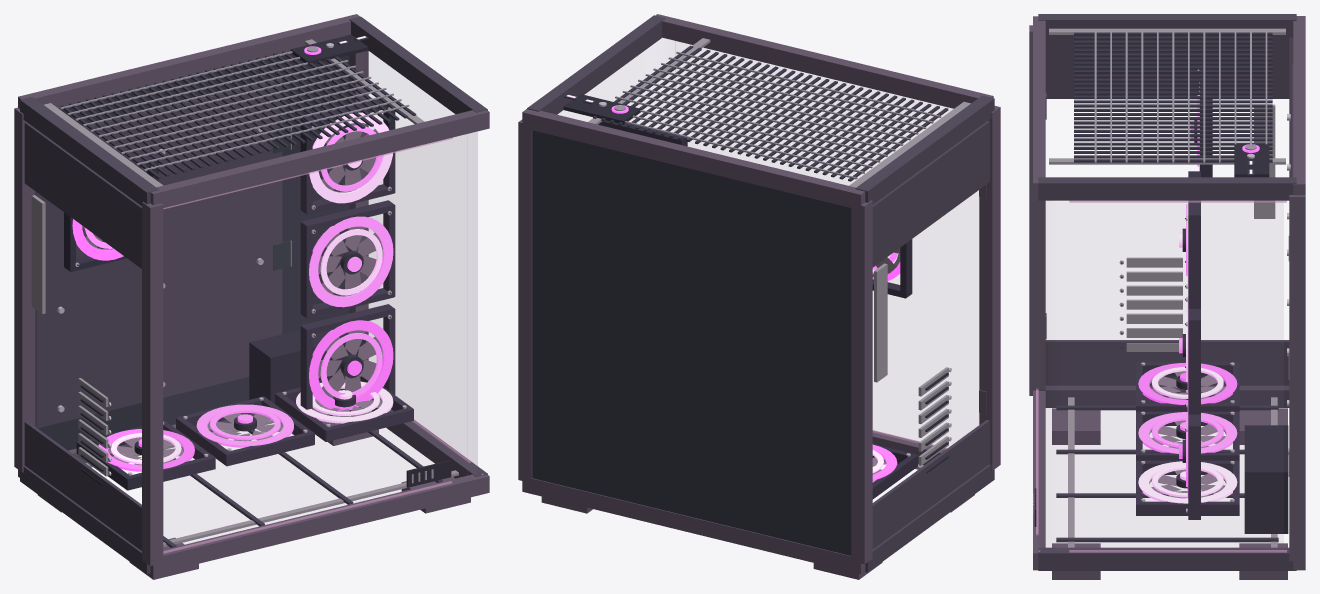
File: FOIFKIN_F600.glb
3 views of the same model, side by side, from view 1: azimuth 30°, elevation 25°; view 2: azimuth 150°, elevation 25°; view 3: azimuth 270°, elevation 25° (orthographic).
Parts seen in each view (by area): view 1: F600_MATERIAL_CHASSIS, F600_MATERIAL_FRAME, F600_MATERIAL_GLASS, F600_MATERIAL_FANBLACK, F600_MATERIAL_METAL, F600_MATERIAL_GRILLE, F600_MATERIAL_CARBON, F600_MATERIAL_PURPLE, F600_MATERIAL_BEZEL, F600_MATERIAL_BLADE, F600_MATERIAL_AZURE, F600_MATERIAL_CYAN (+3 smaller); view 2: F600_MATERIAL_CARBON, F600_MATERIAL_FRAME, F600_MATERIAL_CHASSIS, F600_MATERIAL_GRILLE, F600_MATERIAL_METAL, F600_MATERIAL_FANBLACK, F600_MATERIAL_BEZEL, F600_MATERIAL_CYAN; view 3: F600_MATERIAL_CHASSIS, F600_MATERIAL_GRILLE, F600_MATERIAL_FRAME, F600_MATERIAL_METAL, F600_MATERIAL_FANBLACK, F600_MATERIAL_BEZEL, F600_MATERIAL_AZURE, F600_MATERIAL_PURPLE, F600_MATERIAL_BLADE, F600_MATERIAL_CYAN, F600_MATERIAL_GLASSEDGE, F600_MATERIAL_BOLTS.
Boxes of the visible parts, bbox=[...] form: F600_MATERIAL_CHASSIS: bbox=[20, 16, 487, 573]; F600_MATERIAL_FRAME: bbox=[14, 14, 489, 579]; F600_MATERIAL_GLASS: bbox=[365, 132, 477, 477]; F600_MATERIAL_FANBLACK: bbox=[64, 99, 413, 490]; F600_MATERIAL_METAL: bbox=[31, 39, 458, 547]; F600_MATERIAL_GRILLE: bbox=[60, 49, 442, 547]; F600_MATERIAL_CARBON: bbox=[38, 53, 349, 450]; F600_MATERIAL_PURPLE: bbox=[84, 125, 393, 447]; F600_MATERIAL_BEZEL: bbox=[77, 34, 451, 487]; F600_MATERIAL_BLADE: bbox=[82, 122, 382, 465]; F600_MATERIAL_AZURE: bbox=[111, 36, 393, 464]; F600_MATERIAL_CYAN: bbox=[72, 46, 393, 471]; F600_MATERIAL_CARBON: bbox=[532, 130, 851, 555]; F600_MATERIAL_FRAME: bbox=[518, 14, 1000, 579]; F600_MATERIAL_CHASSIS: bbox=[527, 15, 994, 572]; F600_MATERIAL_GRILLE: bbox=[593, 45, 948, 181]; F600_MATERIAL_METAL: bbox=[588, 38, 970, 469]; F600_MATERIAL_FANBLACK: bbox=[598, 120, 917, 499]; F600_MATERIAL_BEZEL: bbox=[563, 94, 948, 473]; F600_MATERIAL_CYAN: bbox=[611, 105, 900, 481]; F600_MATERIAL_CHASSIS: bbox=[1038, 14, 1296, 570]; F600_MATERIAL_GRILLE: bbox=[1056, 32, 1278, 542]; F600_MATERIAL_FRAME: bbox=[1029, 16, 1305, 579]; F600_MATERIAL_METAL: bbox=[1033, 28, 1289, 547]; F600_MATERIAL_FANBLACK: bbox=[1136, 65, 1239, 519]; F600_MATERIAL_BEZEL: bbox=[1034, 120, 1288, 533]; F600_MATERIAL_AZURE: bbox=[1138, 161, 1252, 503]; F600_MATERIAL_PURPLE: bbox=[1138, 95, 1237, 486]; F600_MATERIAL_BLADE: bbox=[1151, 371, 1225, 498]; F600_MATERIAL_CYAN: bbox=[1138, 82, 1259, 498]; F600_MATERIAL_GLASSEDGE: bbox=[1036, 200, 1286, 552]; F600_MATERIAL_BOLTS: bbox=[1039, 69, 1290, 551].
Size of the model in its own units: 0.419 by 0.46 by 0.285.
